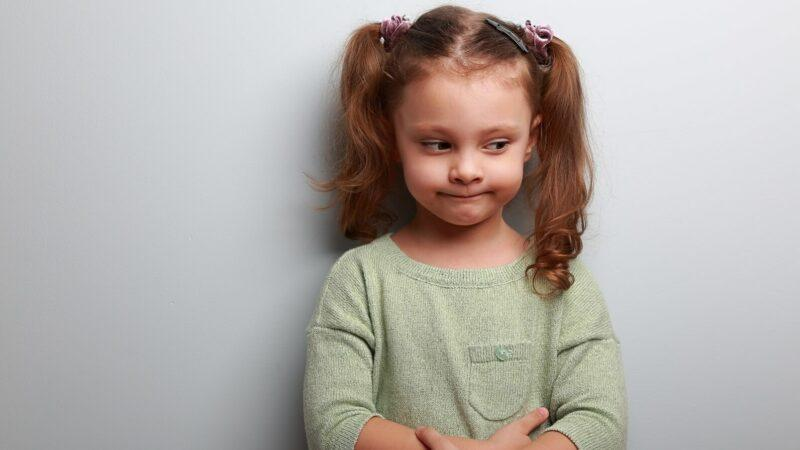Healthy: (363, 8, 581, 255)
